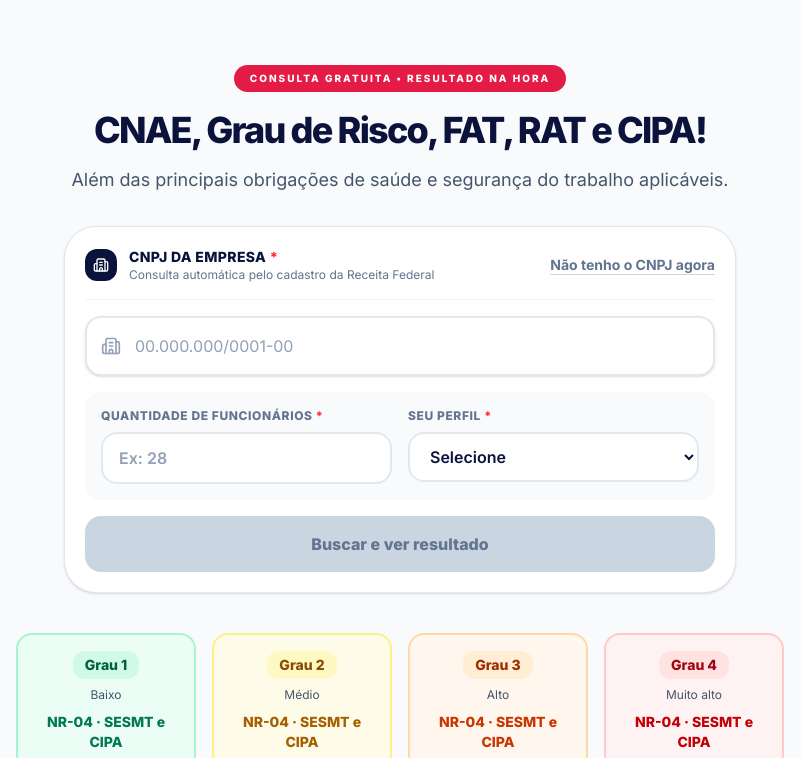
CnaeCalculator › consulta o CNPJ, encontra o CNAE e mostra o enquadramento de NR-05
The image size is (801, 758).
Expected: the button "Buscar e ver resultado" is disabled, [85,516,715,572]
Type "12345678000195" into the field with placeholder "00.000.000/0001-00".
click(400, 346); type("12345678000195")  # box [85,316,715,376]
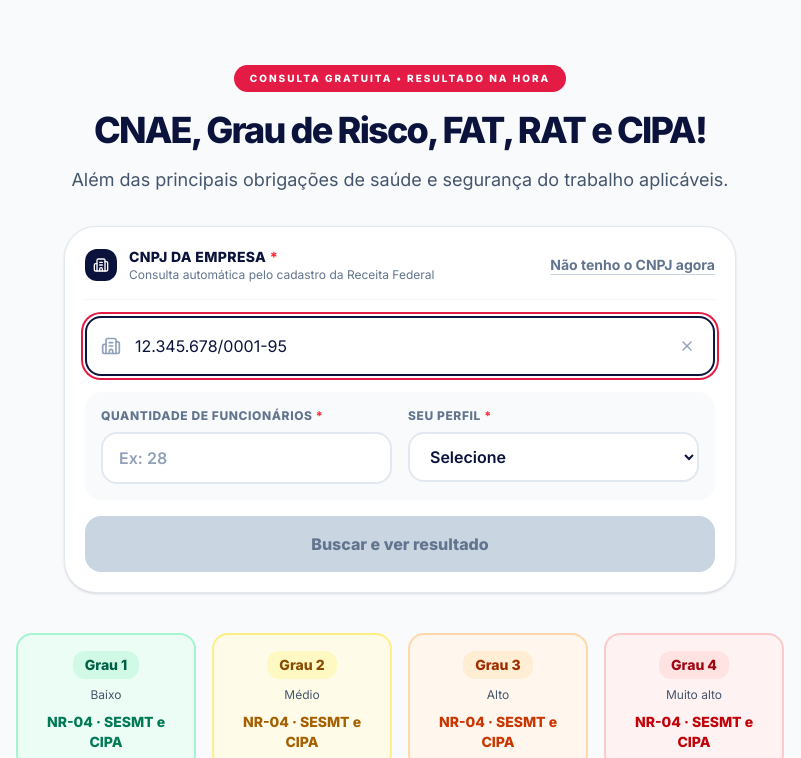
Expected: the button "Buscar e ver resultado" is disabled, [85,516,715,572]
Type "100" into the number field with placeholder "Ex: 28".
click(246, 458); type("100")  # box [101,432,392,484]
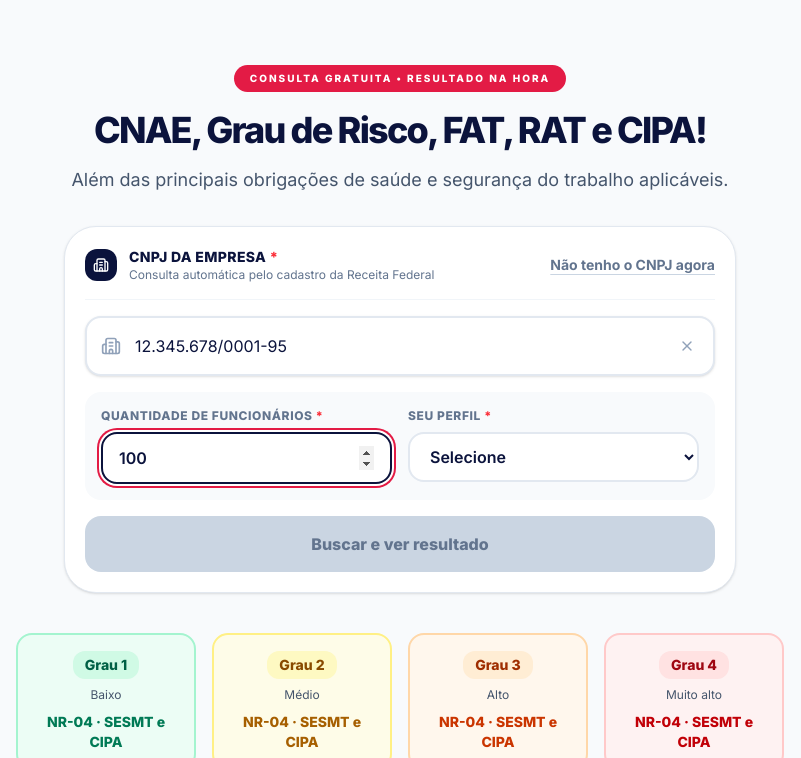
Expected: the button "Buscar e ver resultado" is disabled, [85,516,715,572]
Select "Contador(a)" in the dropdown labelled "Seu perfil *" at (554, 457), box [408,432,699,482]
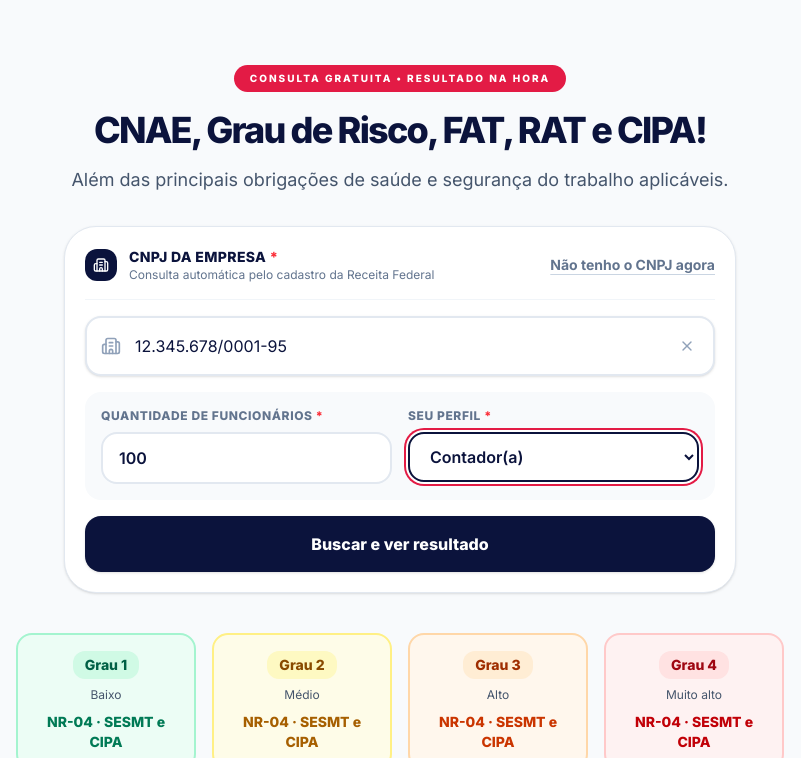
Expected: the button "Buscar e ver resultado" is enabled
Click the button "Buscar e ver resultado".
click(400, 544)  # box [85,516,715,572]
(page scrolled)
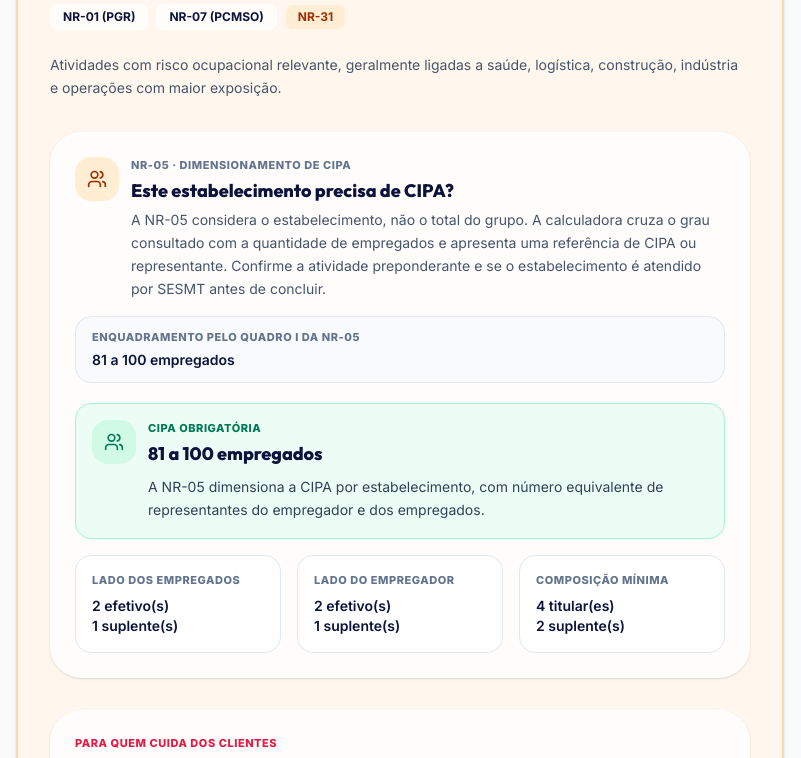
Expected: the text "CIPA obrigatória" is shown, [148,421,261,435]
